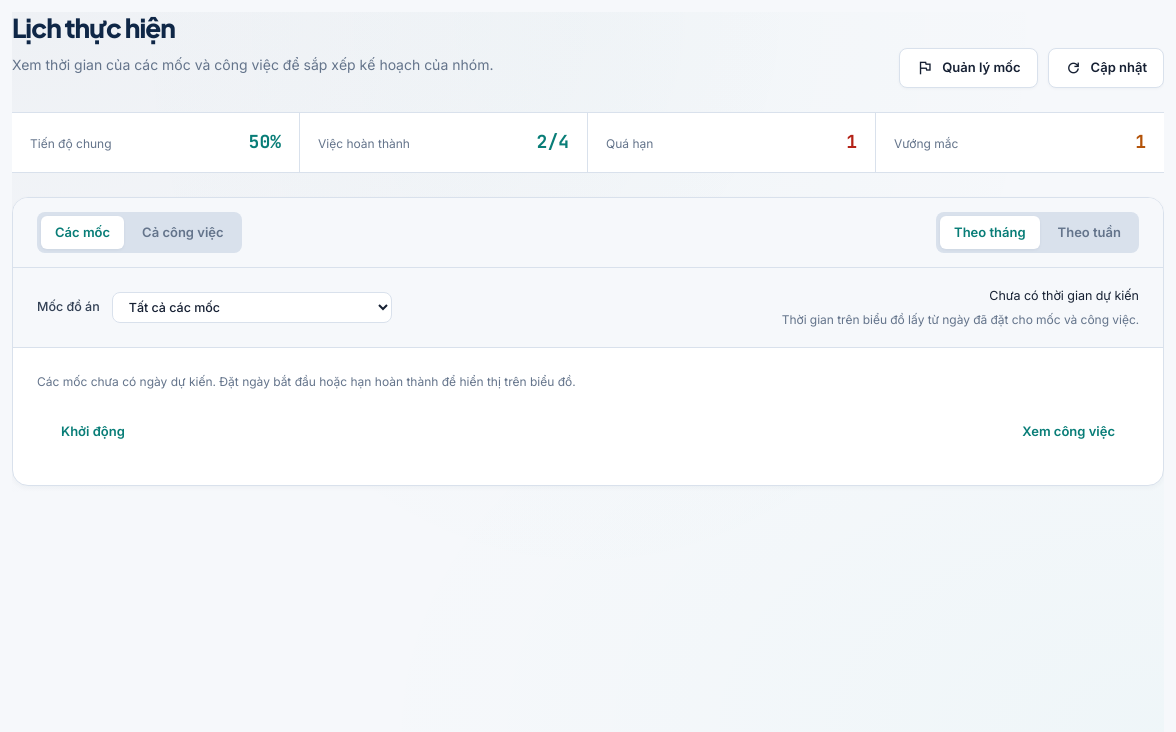
Test case: GanttPage › keeps undated tasks accessible without inventing dates
Expected: the link "Khởi động" is shown, [61, 423, 125, 439]
Click the button "Cả công việc". click: (183, 232)
box: [128, 216, 238, 249]
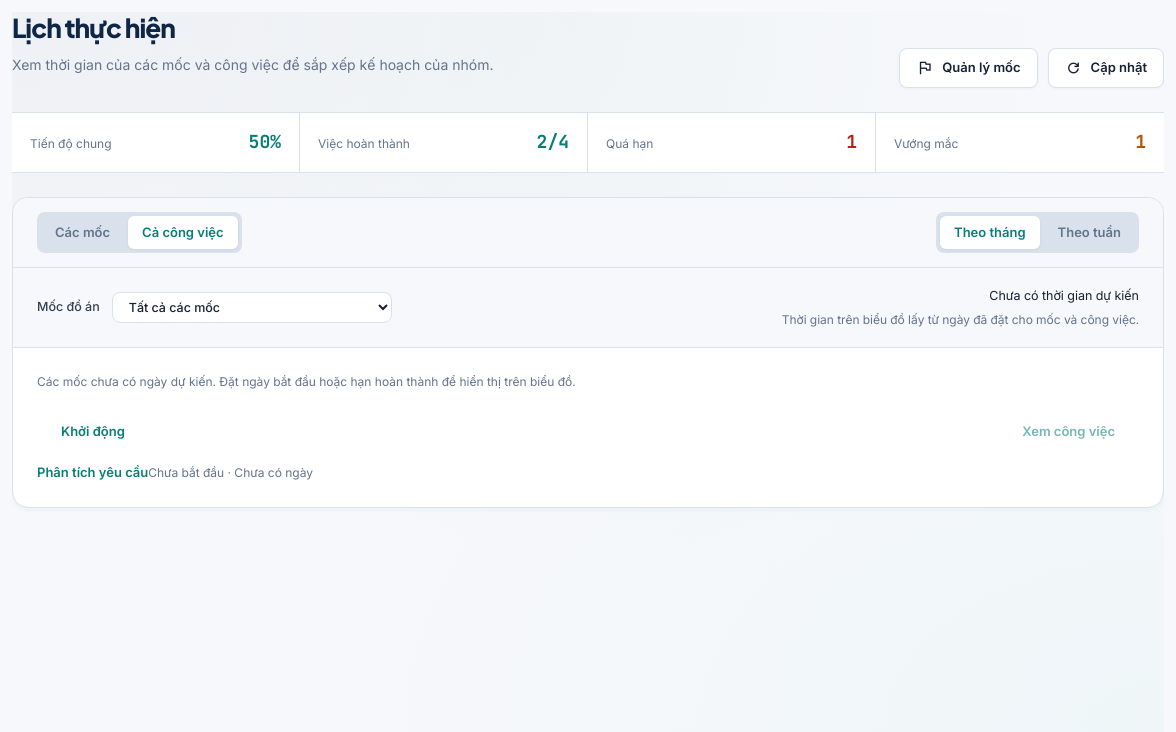
Now the link "Phân tích yêu cầu" is shown, box [37, 460, 148, 484]
